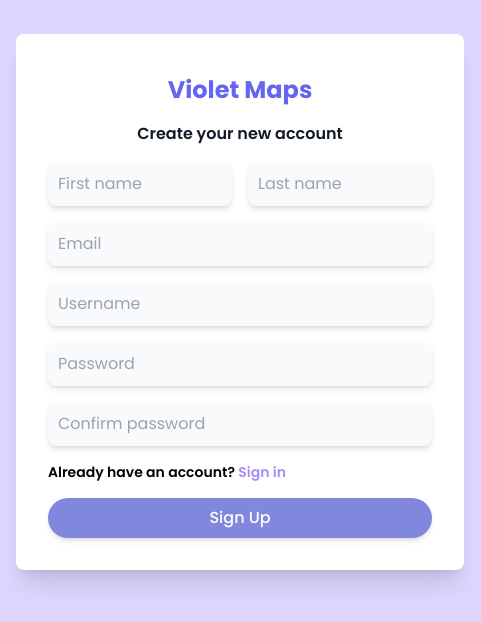
it: register tests › unsuccessful register - email already exists
In the field with id "firstName": (140, 184) left=48, top=162, right=232, bottom=206, type "Joe"
In the field with id "lastName": (340, 184) left=248, top=162, right=432, bottom=206, type "Shmoe"
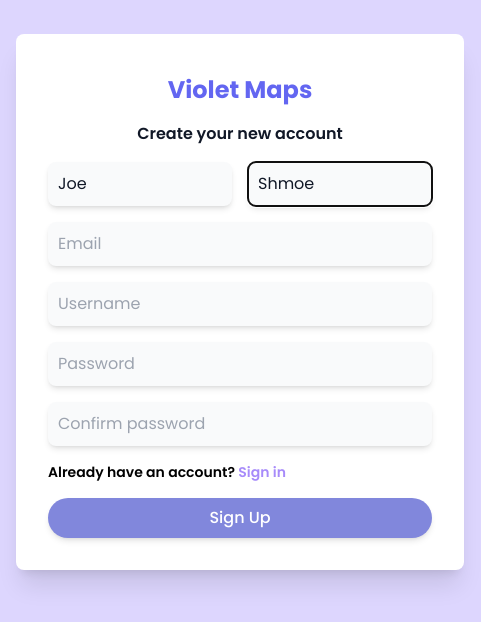
In the field with id "email": (240, 244) left=48, top=222, right=432, bottom=266, type "Joe.Shmoe@email.com"
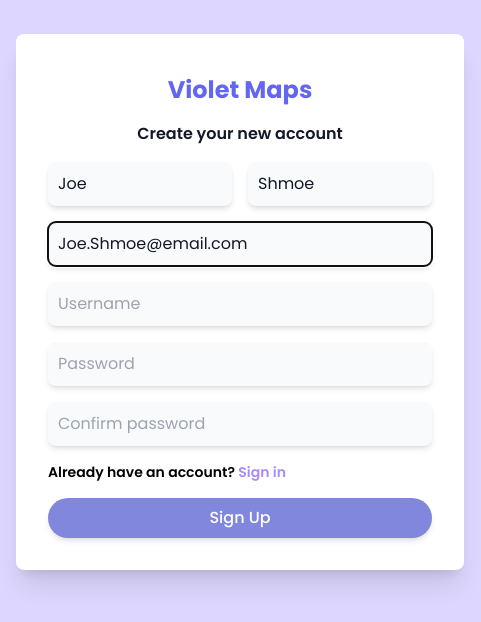
In the field with id "username": (240, 304) left=48, top=282, right=432, bottom=326, type "JoeShmoe"
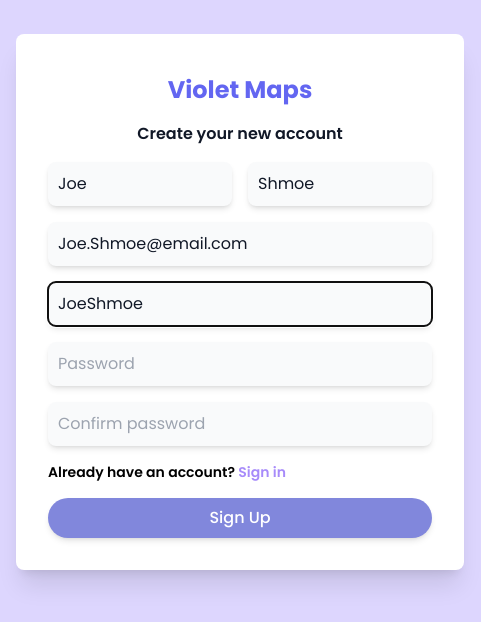
In the password field with placeholder "Password": (240, 364) left=48, top=342, right=432, bottom=386, type "JoeShmoe2023"
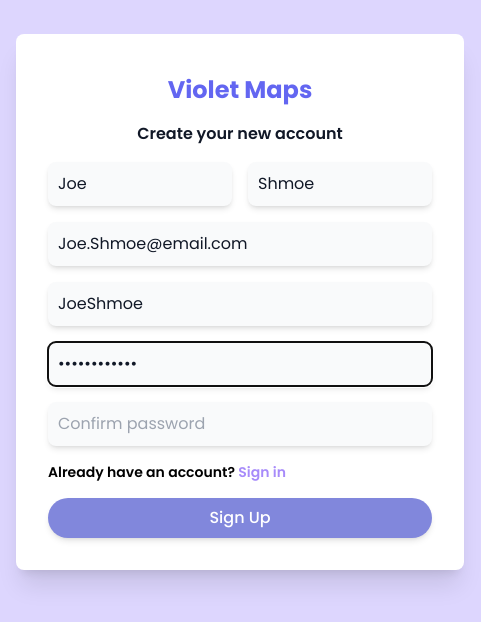
In the password field with id "confirmPassword": (240, 424) left=48, top=402, right=432, bottom=446, type "JoeShmoe2023"
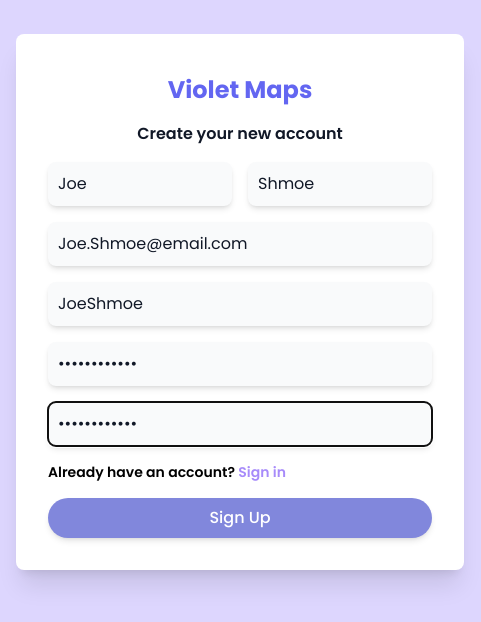
Click the button with id "registerButton": (240, 518) left=48, top=498, right=432, bottom=538
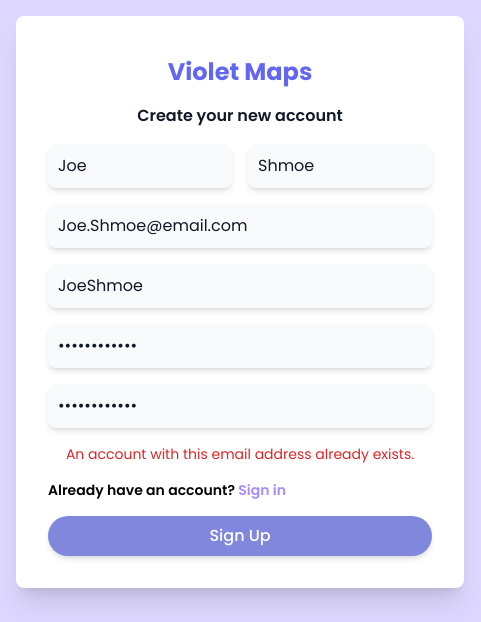
Result: the text "An account with this email address already exists." is shown at left=48, top=444, right=432, bottom=464
